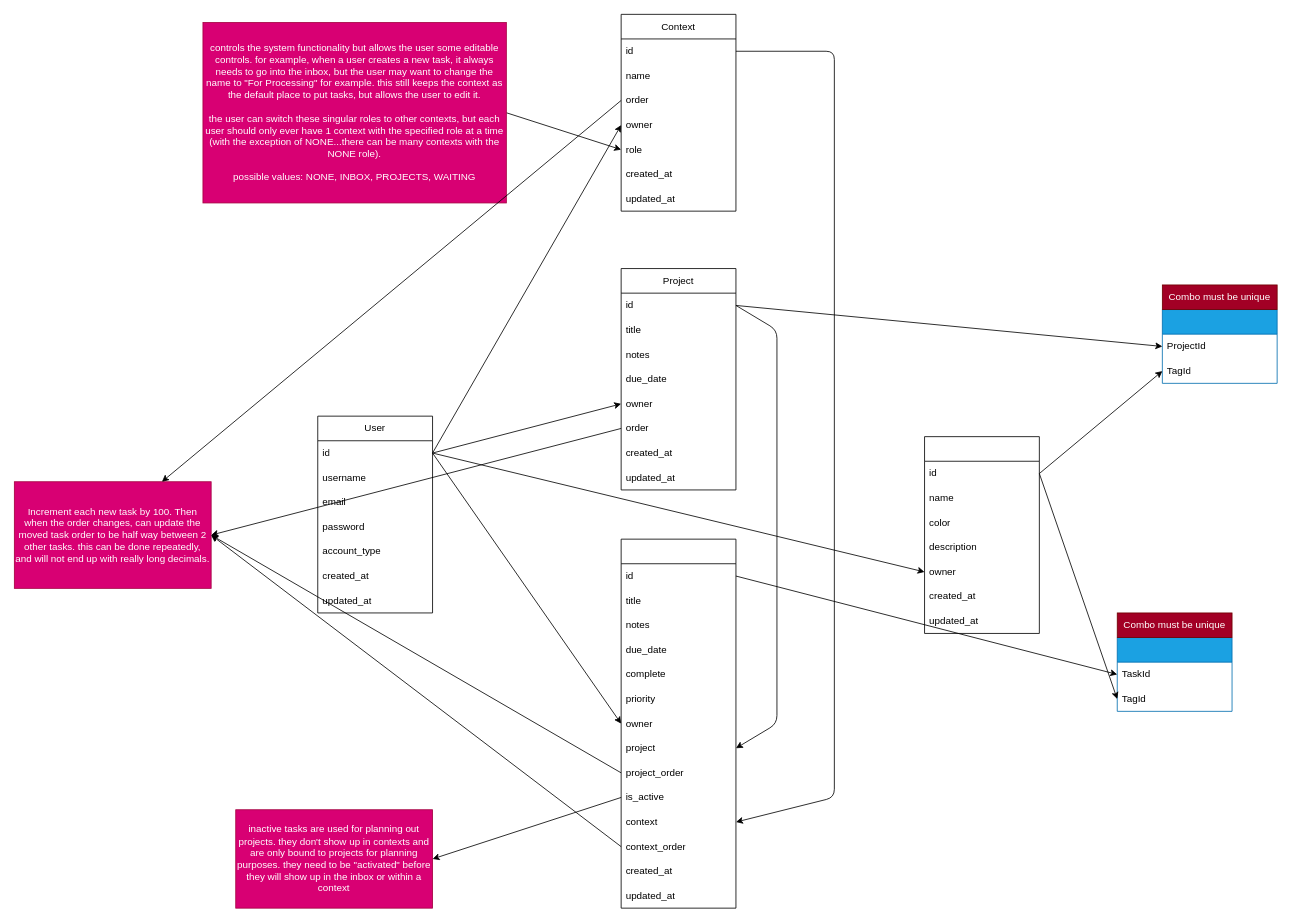
Image size: 1292x923. Some labels were removed from this diagram. Here are the shapes that lost their labels. From the top down, the box of each, then its label:
(1162, 309, 1277, 383): ProjectTag
(924, 436, 1039, 633): Tag
(1116, 637, 1232, 711): TaskTag
(620, 538, 736, 908): Task
